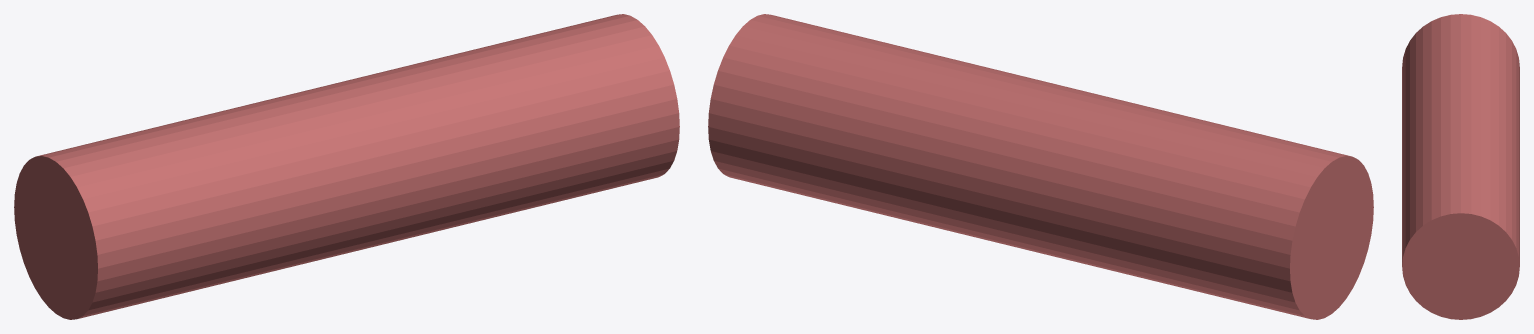
Rendered from LG-PIN.glb.
The picture shows the model from 3 angles, left to right: view 1: azimuth 30°, elevation 25°; view 2: azimuth 150°, elevation 25°; view 3: azimuth 270°, elevation 25°; orthographic projection. The views are drawn at different scales.
Parts seen in each view (by area): view 1: geometry_0; view 2: geometry_0; view 3: geometry_0.
Part boxes in pixels (<box>): geometry_0: <box>14,14,679,319</box>; geometry_0: <box>708,14,1373,319</box>; geometry_0: <box>1402,14,1519,319</box>.
Bounding box in the file's own units: 80 × 20 × 20.
